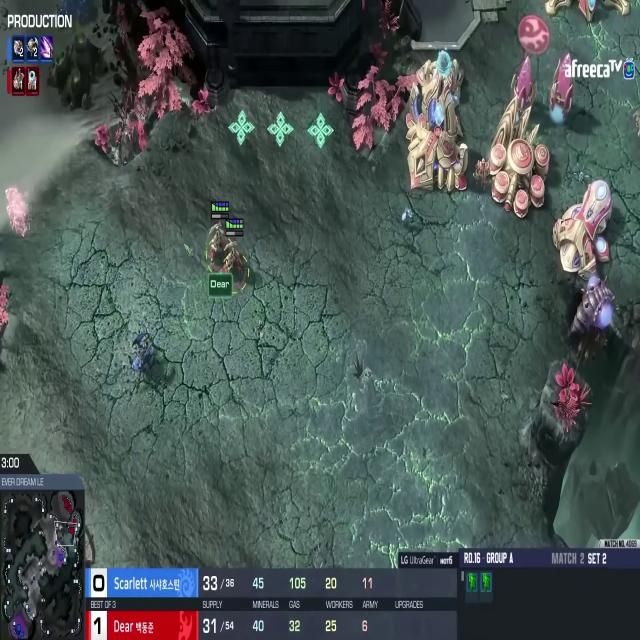adept: (208, 217, 231, 271), (222, 239, 245, 284)
overlord: (567, 268, 620, 369)
roach: (126, 321, 161, 384)
zealot: (472, 146, 492, 195)
